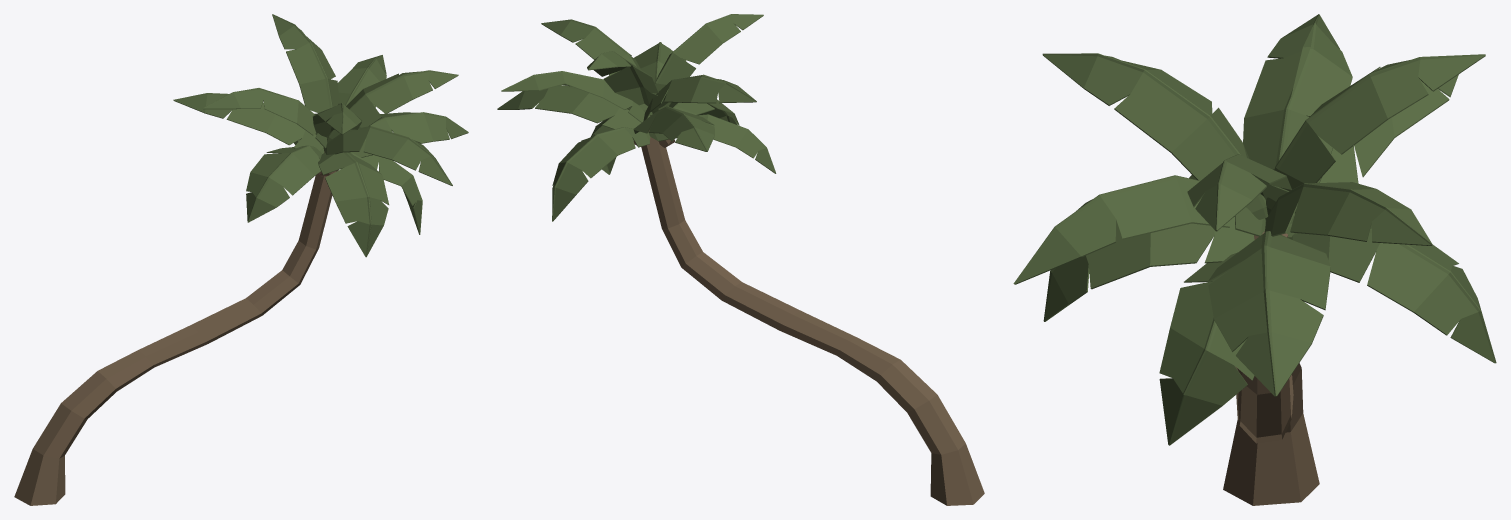
Rendered from SM_Envr_Nature_Tree_Palm_05.fbx.
3 renders of one model, left to right at view 1: azimuth 30°, elevation 25°; view 2: azimuth 150°, elevation 25°; view 3: azimuth 270°, elevation 25°, orthographic. The views are drawn at different scales.
Parts seen in each view (by area): view 1: SM_Envr_Nature_Tree_Palm_05; view 2: SM_Envr_Nature_Tree_Palm_05; view 3: SM_Envr_Nature_Tree_Palm_05.
Boxes of the visible parts, x1,y1,x2,y2 form: SM_Envr_Nature_Tree_Palm_05: (14, 14, 468, 505); SM_Envr_Nature_Tree_Palm_05: (497, 14, 984, 505); SM_Envr_Nature_Tree_Palm_05: (1013, 14, 1496, 505).
Size of the model in its own units: 1169 by 920 by 574.
